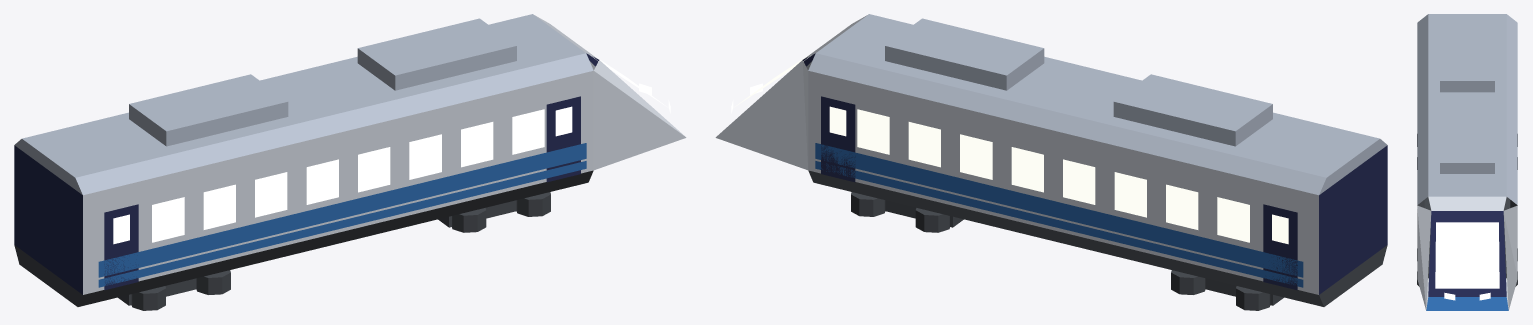
Rendered from tra-emu800.glb.
The picture shows the model from 3 angles, left to right: view 1: azimuth 30°, elevation 25°; view 2: azimuth 150°, elevation 25°; view 3: azimuth 270°, elevation 25°; orthographic projection. The views are drawn at different scales.
Parts seen in each view (by area): view 1: tra-emu800_root; view 2: tra-emu800_root; view 3: tra-emu800_root.
Boxes of the visible parts, x1=… form: tra-emu800_root: x1=14, y1=14, x2=686, y2=310; tra-emu800_root: x1=715, y1=14, x2=1387, y2=310; tra-emu800_root: x1=1417, y1=14, x2=1517, y2=310.
Size of the model in its own units: 16.05 by 4.04 by 3.18.
Materials: 2 (2 with a texture image).
